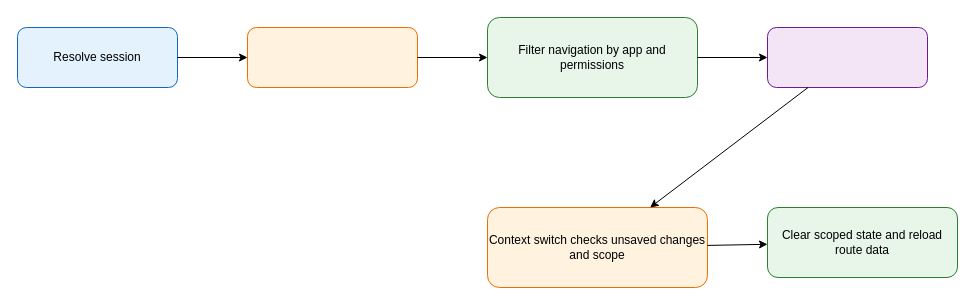
This 975x305 diagram has some shape labels left out. Here are the shapes that lost their labels. From the top down, the box of each, then its label:
(246, 26, 418, 88): Load shell context
(766, 26, 928, 88): Render shell
